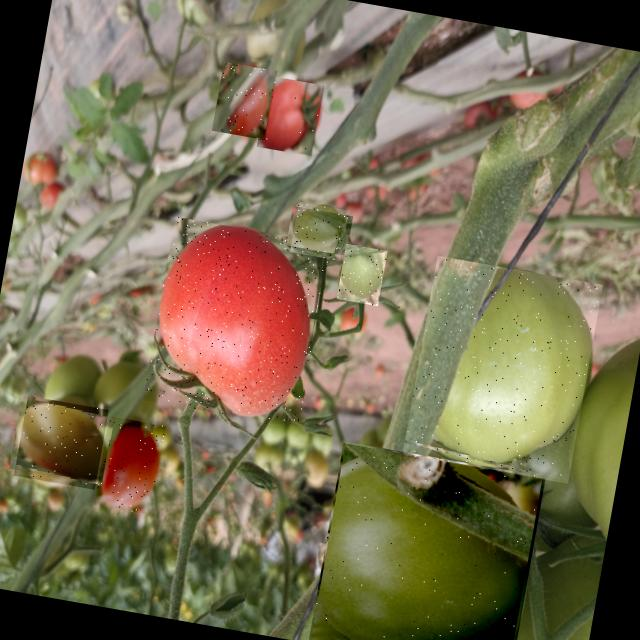Ripe Tomato: (142, 216, 330, 427), (94, 416, 166, 514), (256, 75, 324, 156), (212, 61, 276, 139)
Unripe Tomato: (308, 442, 545, 640), (401, 256, 602, 484), (13, 396, 108, 490), (290, 202, 348, 260), (336, 243, 387, 306)
